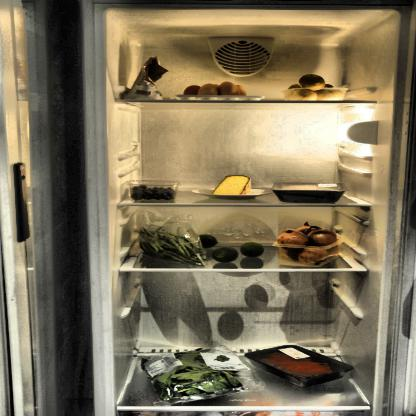beef: (262, 348, 337, 388)
blueberries: (129, 183, 177, 201)
cheese: (212, 173, 250, 196)
eggs: (184, 80, 250, 100)
green_beans: (130, 218, 209, 264)
lime: (212, 246, 239, 262), (239, 242, 265, 257), (195, 235, 219, 248)
onion: (275, 224, 346, 268)
potato: (284, 73, 346, 101)
spinach: (145, 348, 242, 404)
